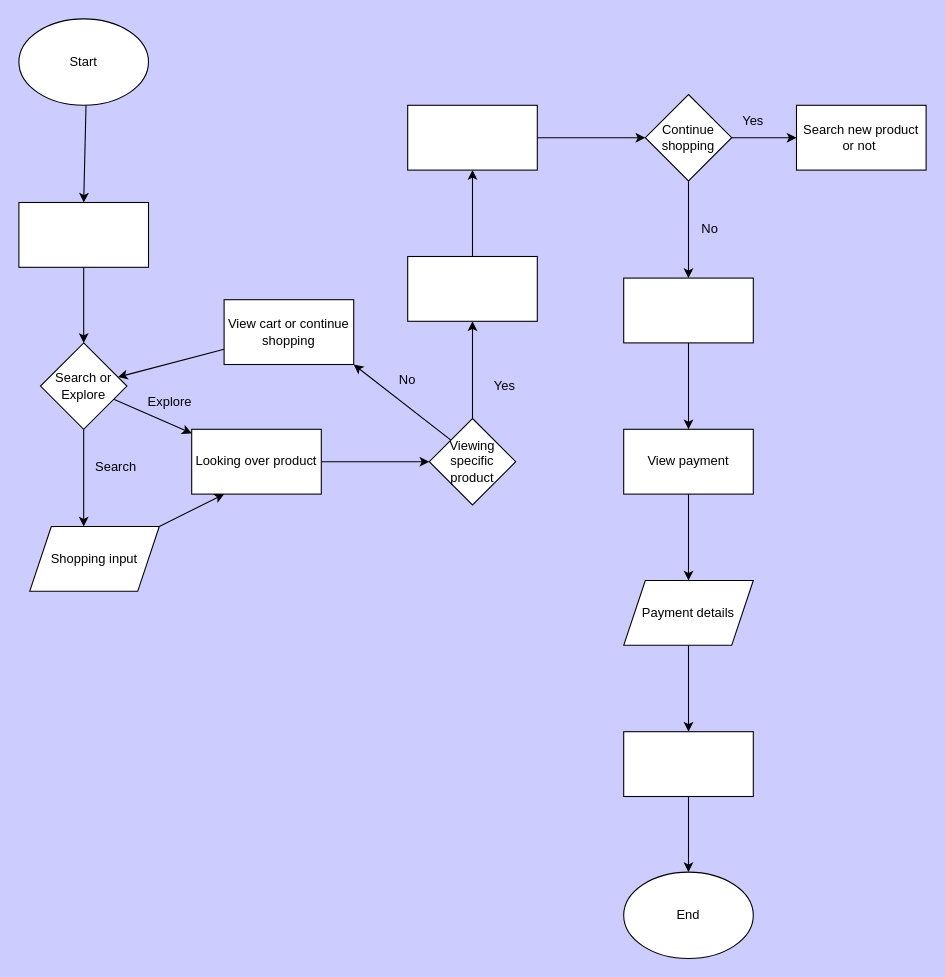
This 945x977 diagram has some shape labels left out. Each missing label, with the centre of its shape:
"Add to cart" goes at (x=472, y=288).
"Add to cart confirmation" goes at (x=472, y=137).
"Enters Website" goes at (x=83, y=234).
"Order confirmation/email" goes at (x=688, y=763).
"View cart" goes at (x=688, y=310).
